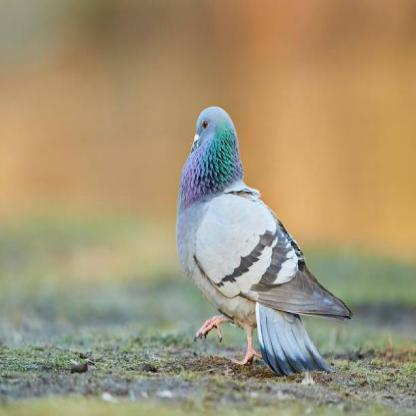Rock Pigeon: (174, 101, 359, 369)
